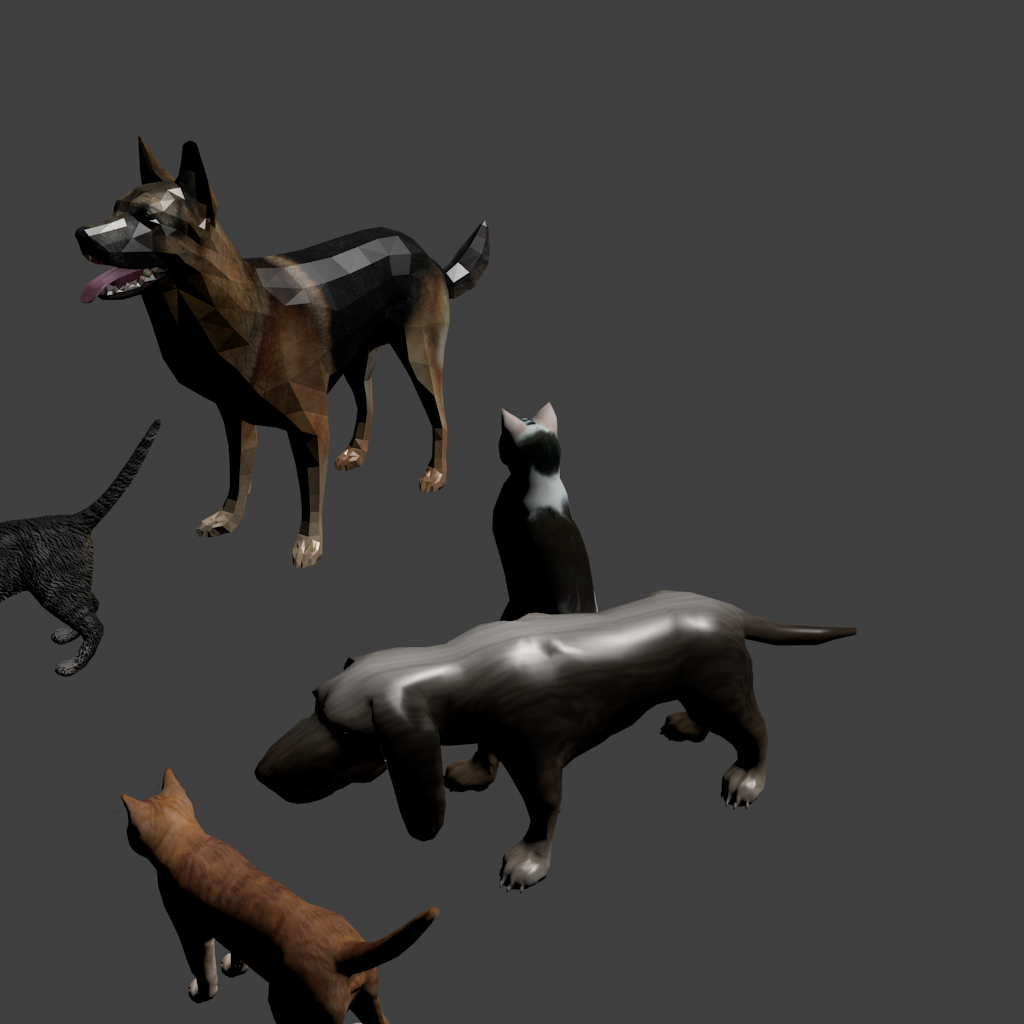Dog: (75, 136, 415, 433)
